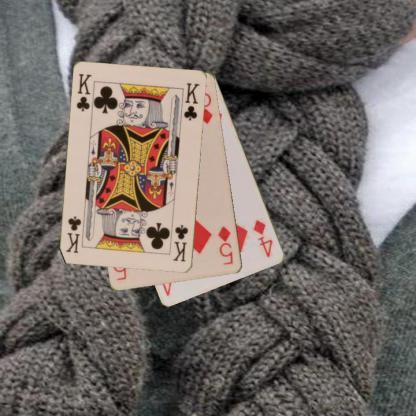4d: (251, 217, 274, 259)
5d: (216, 224, 234, 266)
Kc: (74, 71, 93, 113), (171, 222, 190, 263)
